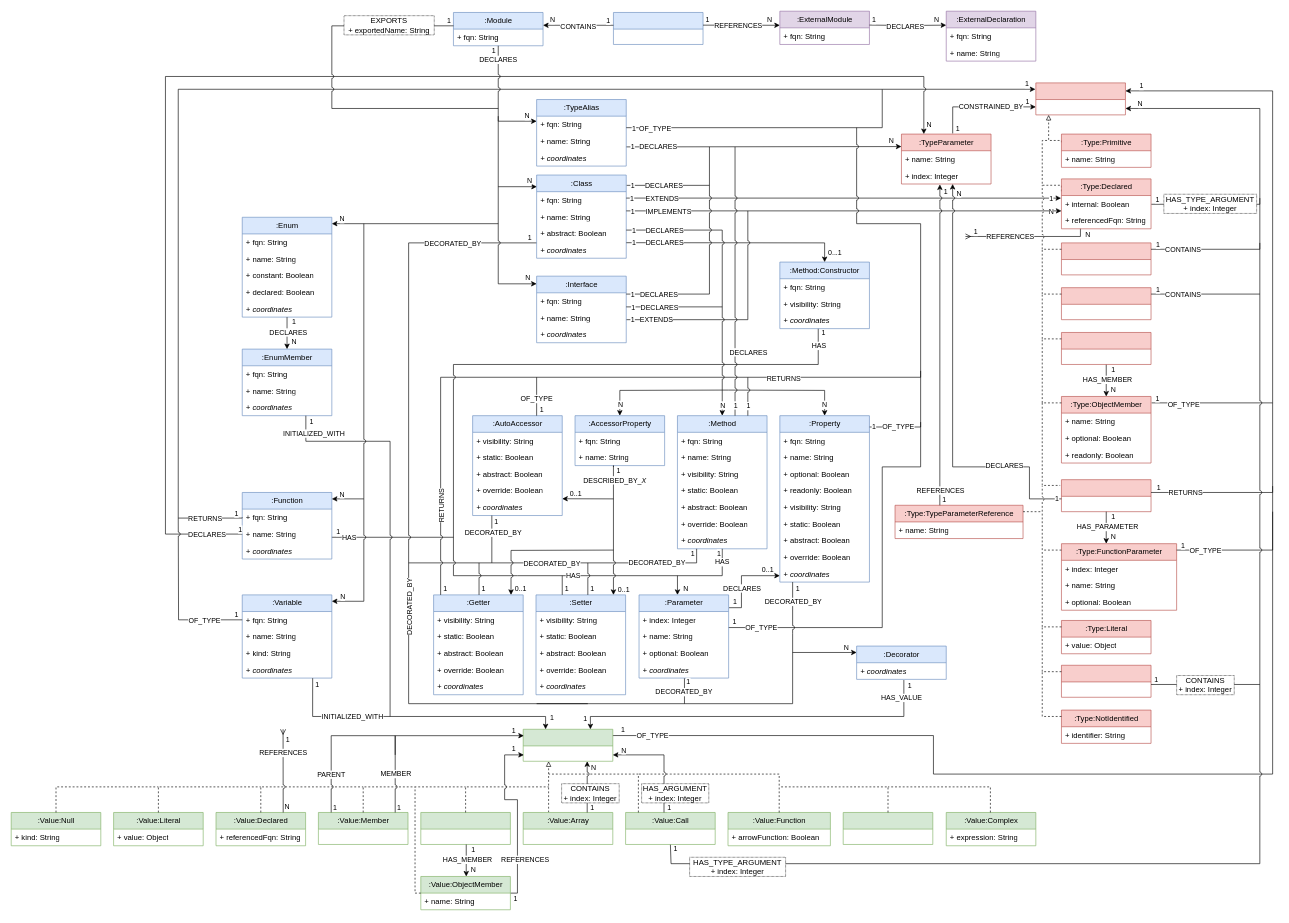
Image size: 1289x923. Some labels were removed from this diagram. Here are the shapes that lost their labels. From the top down, the centre of each, then its label:
At point (658, 28): ":Project".
At point (1080, 98): ":Type".
At point (1106, 258): ":Type:Union".
At point (1106, 303): ":Type:Intersection".
At point (1106, 348): ":Type:Object".
At point (1106, 495): ":Type:Function".
At point (1106, 681): ":Type:Tuple".
At point (568, 745): ":Value".
At point (465, 828): ":Value:Object".
At point (888, 828): ":Value:Class".
